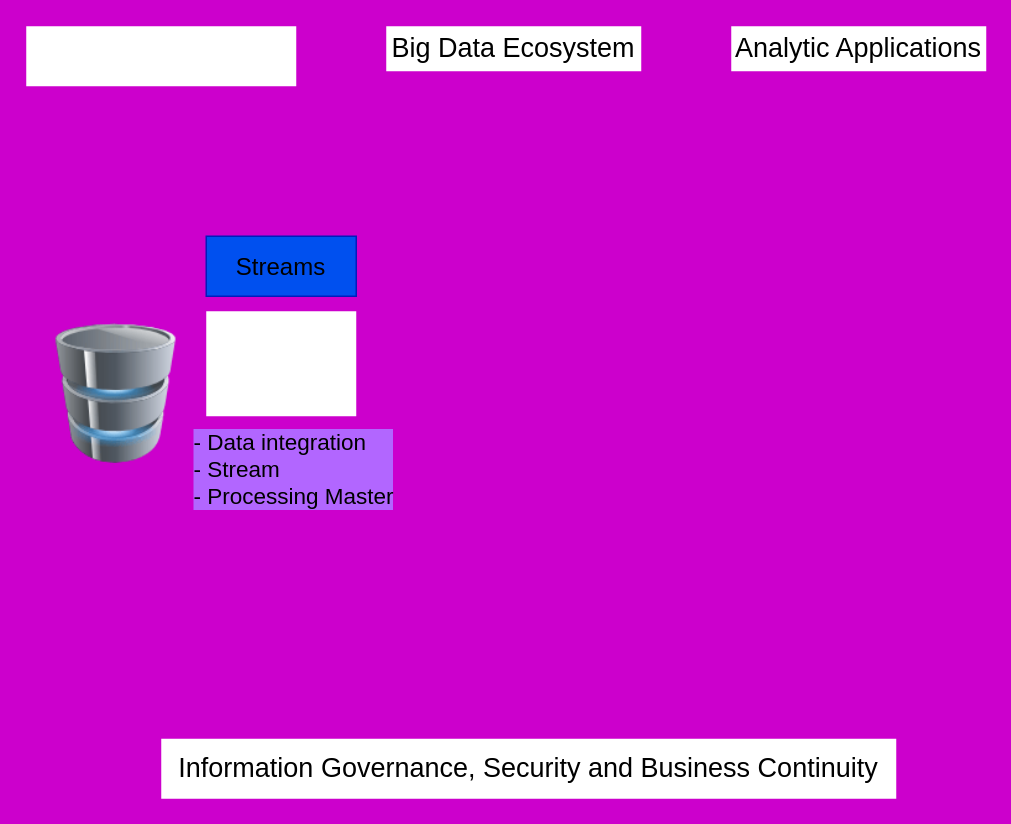
Some shapes in this 1011 by 824 pixel diagram are drawn without their labels. The centre of each missing label's shape, as x and y in pixels:
"All Data Sources" goes at (x=161, y=56).
"Information Ingestion and Operational Information" goes at (x=281, y=363).
